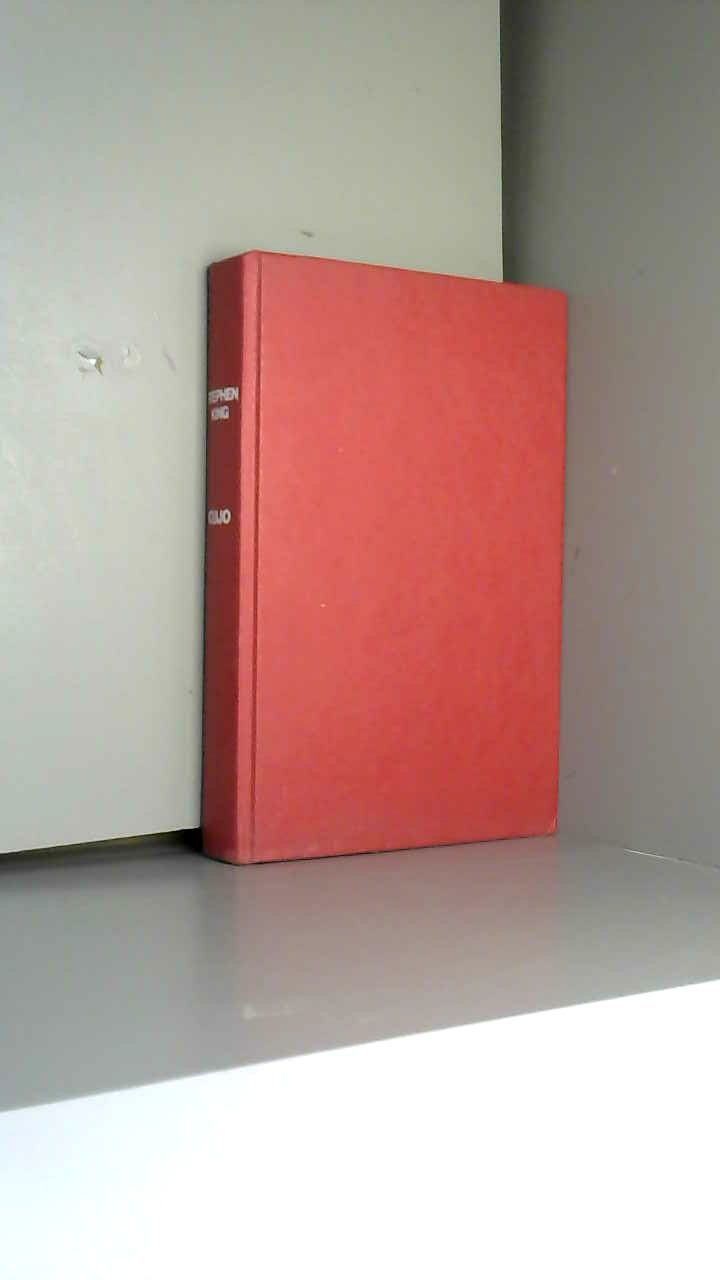book: (143, 211, 617, 900)
